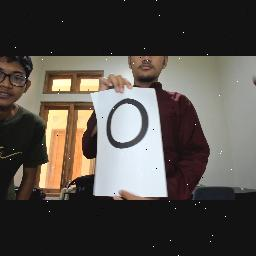o: (104, 97, 154, 153)
